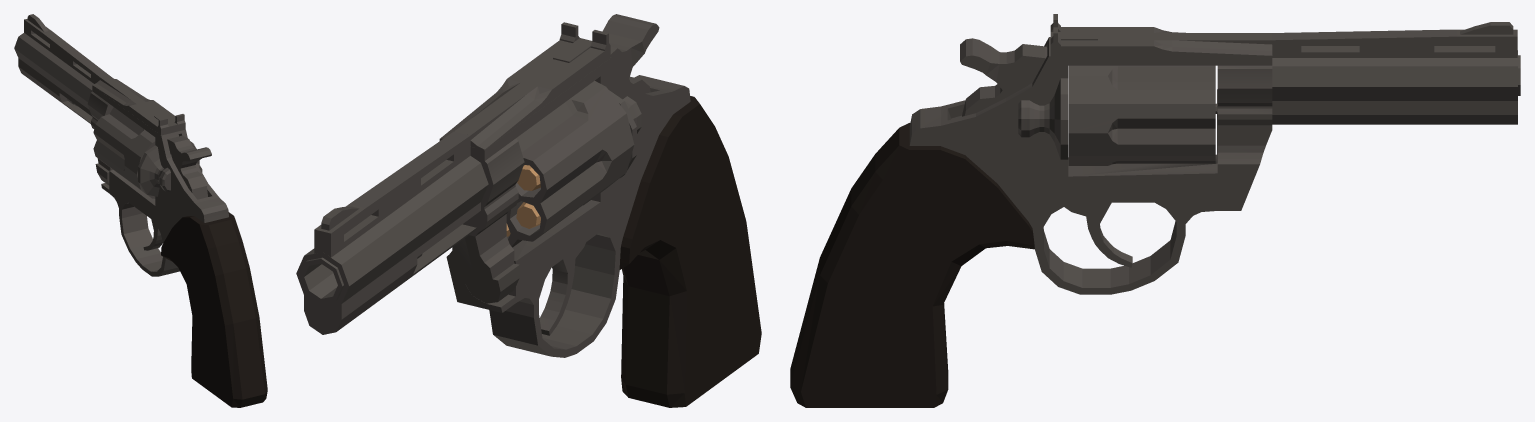
The model's file is Revolver.fbx.
3 views of the same model, side by side, from view 1: azimuth 30°, elevation 25°; view 2: azimuth 150°, elevation 25°; view 3: azimuth 270°, elevation 25° (orthographic). The views are drawn at different scales.
Parts seen in each view (by area): view 1: Grip, Frame, Magnum_Barrel, Revolving_Cylinder, Rear_Sights, Front_Sights, Hammer, Back_Plate_Right, Cylinder_Arm, Trigger; view 2: Grip, Frame, Magnum_Barrel, Revolving_Cylinder, Rear_Sights, Front_Sights, Cylinder_Arm, Hammer, Trigger, Back_Plate_Right, Bullet5, Bullet6; view 3: Grip, Frame, Magnum_Barrel, Revolving_Cylinder, Front_Sights, Rear_Sights, Hammer, Back_Plate_Left, Trigger.
Boxes of the visible parts, box(x1,y1,x2,y2) form: Grip: box(161, 212, 267, 407); Frame: box(87, 85, 228, 276); Magnum_Barrel: box(14, 33, 93, 123); Revolving_Cylinder: box(93, 107, 155, 198); Rear_Sights: box(92, 75, 185, 135); Front_Sights: box(24, 14, 108, 83); Hammer: box(167, 135, 211, 199); Back_Plate_Right: box(138, 145, 170, 196); Cylinder_Arm: box(91, 118, 112, 185); Trigger: box(143, 219, 162, 250); Grip: box(619, 96, 761, 407); Frame: box(439, 57, 690, 357); Magnum_Barrel: box(296, 156, 488, 334); Revolving_Cylinder: box(506, 80, 634, 247); Rear_Sights: box(440, 22, 610, 149); Front_Sights: box(314, 131, 470, 257); Cylinder_Arm: box(463, 187, 519, 303); Hammer: box(602, 14, 659, 93); Trigger: box(539, 242, 585, 335); Back_Plate_Right: box(609, 90, 641, 177); Bullet5: box(516, 202, 540, 228); Bullet6: box(517, 165, 540, 190); Grip: box(790, 123, 1034, 407); Frame: box(909, 37, 1272, 294); Magnum_Barrel: box(1272, 50, 1520, 124); Revolving_Cylinder: box(1068, 65, 1215, 165); Front_Sights: box(1272, 22, 1517, 57); Rear_Sights: box(1050, 14, 1272, 56); Hammer: box(960, 38, 1047, 116); Back_Plate_Left: box(1018, 78, 1068, 159); Trigger: box(1064, 202, 1132, 267).
Bounding box in the file's own units: 0.0456 × 0.1627 × 0.2906.
2 materials, 2 textured.
